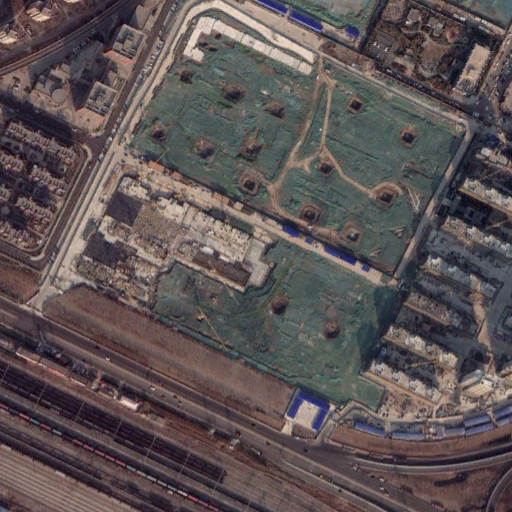cw: (127, 10, 467, 411)
